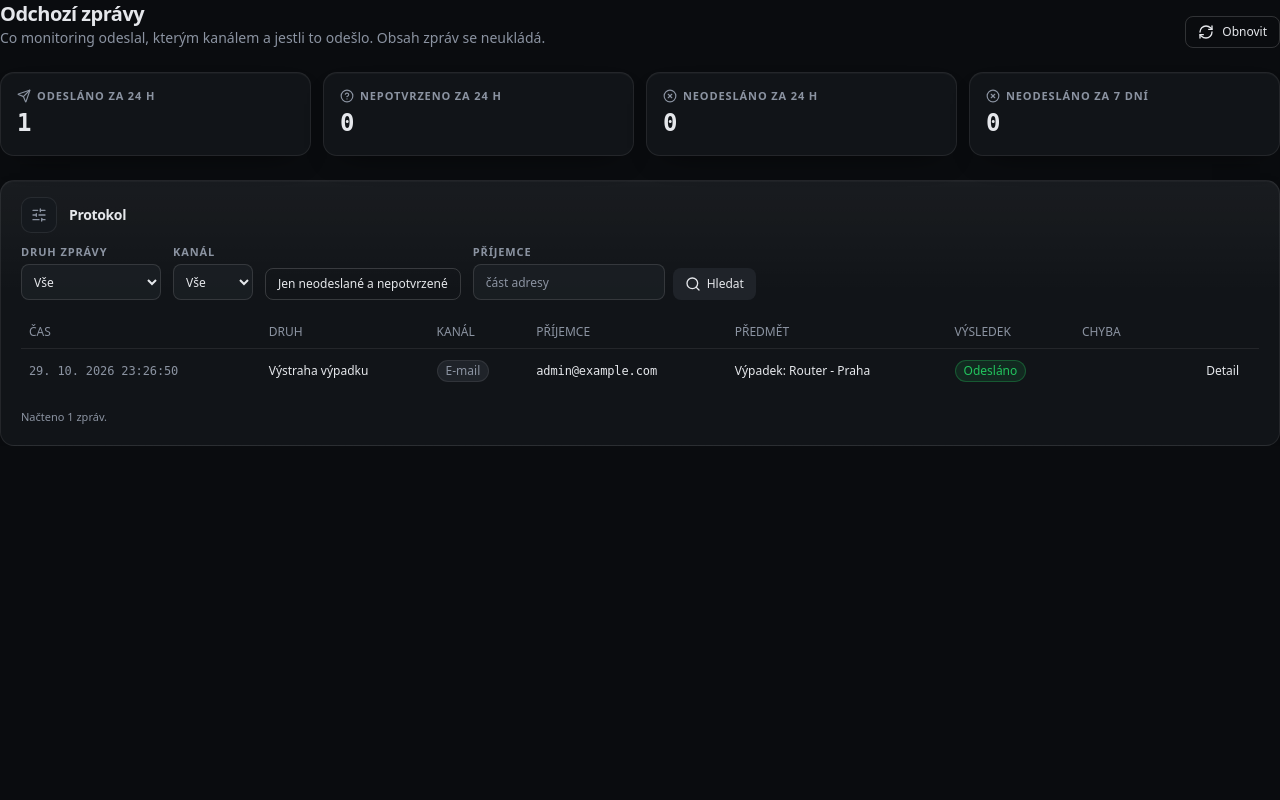
Test: Odchozí zprávy › detail ukáže odpověď poskytovatele a řekne, co „Odesláno“ znamená
Expected: the text "admin@example.com" is shown, [528, 348, 727, 393]
Click the button "Detail".
click(1223, 371)  # box [1194, 355, 1251, 387]
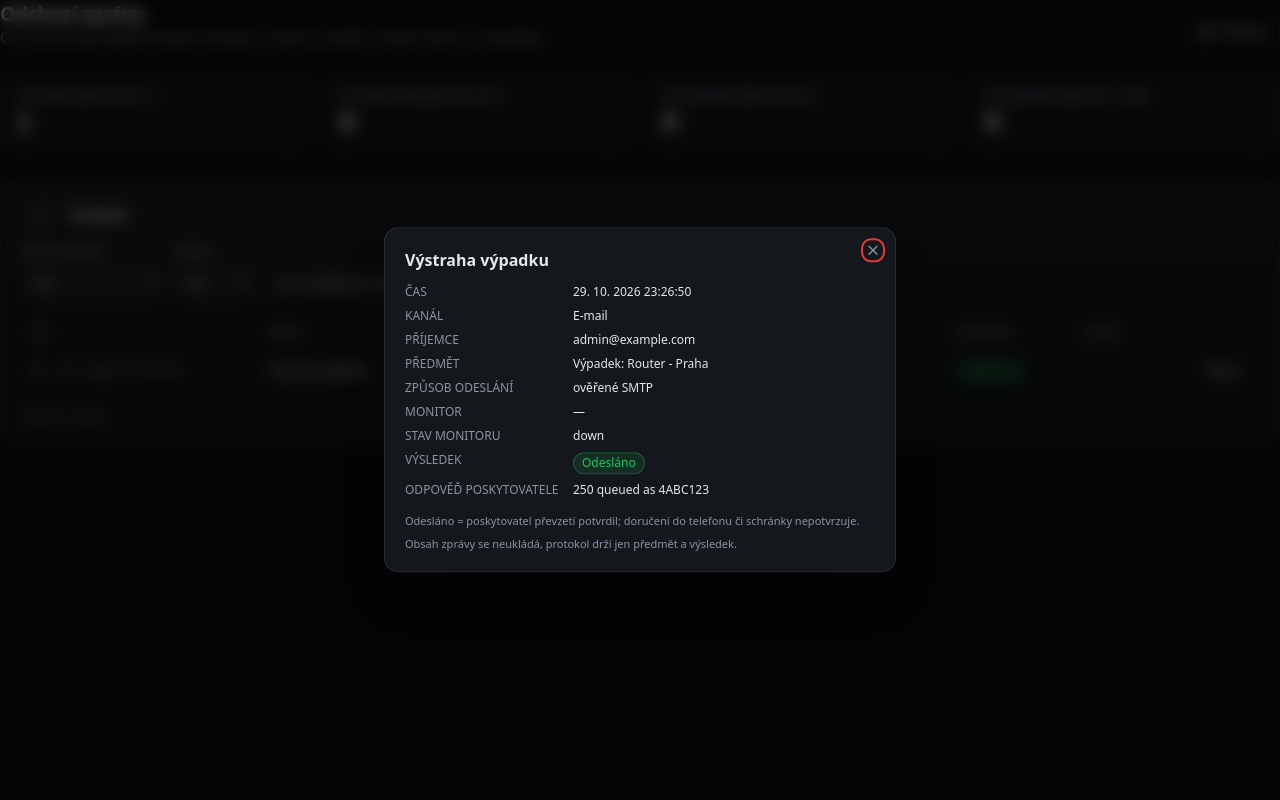
Result: the dialog shows "ODPOVĚĎ POSKYTOVATELE" at [405, 481, 558, 498]
Result: the dialog shows "250 queued as 4ABC123" at [573, 481, 709, 498]
Result: the dialog shows "doručení do telefonu či schránky nepotvrzuje" at [405, 513, 859, 528]
